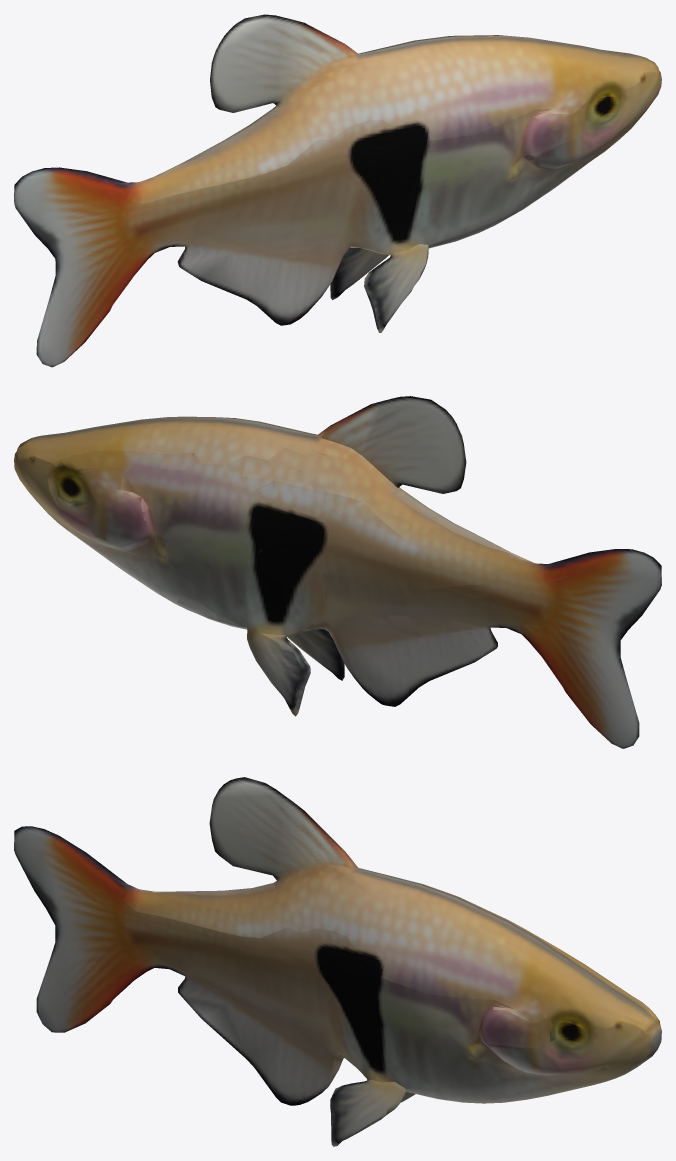
The model's file is harlequin-rasbora.glb.
The picture shows the model from 3 angles, top to bottom: view 1: azimuth 30°, elevation 25°; view 2: azimuth 150°, elevation 25°; view 3: azimuth 330°, elevation 25°; orthographic projection.
Parts seen in each view (by area): view 1: geometry_0; view 2: geometry_0; view 3: geometry_0.
Part boxes in pixels (x1=…): geometry_0: x1=14, y1=14, x2=661, y2=367; geometry_0: x1=14, y1=396, x2=661, y2=748; geometry_0: x1=14, y1=777, x2=661, y2=1146.
Size of the model in its own units: 1 by 0.4844 by 0.1304.
Materials: 1 (1 with a texture image).
